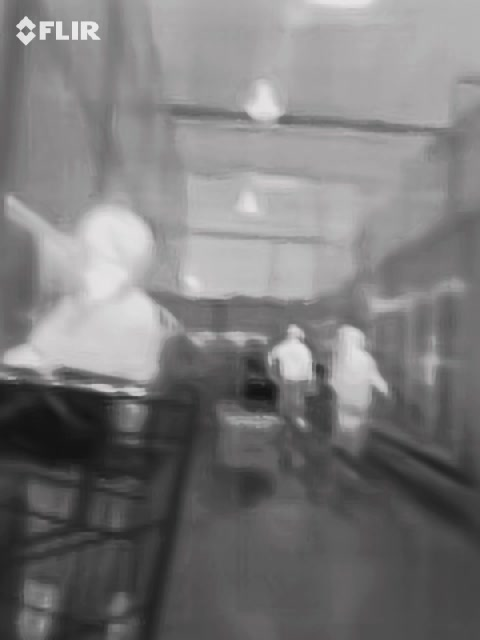head: (75, 203, 155, 292)
